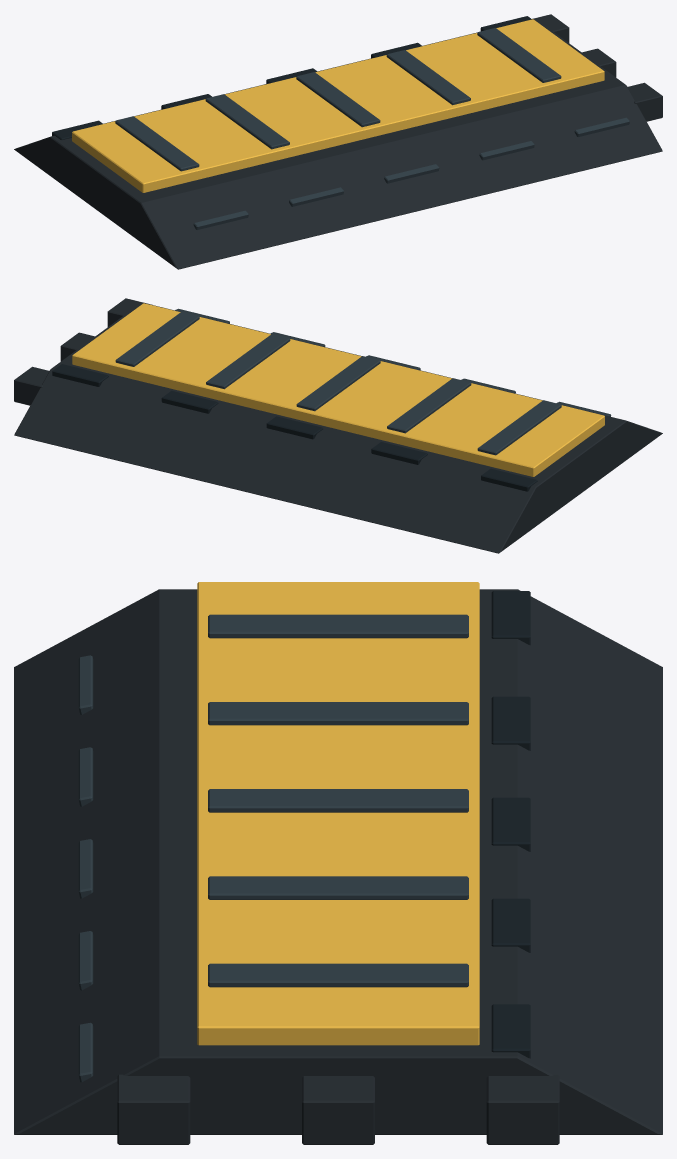
The model's file is b20_five_channel_event_cable_ramp.glb.
The picture shows the model from 3 angles, top to bottom: view 1: azimuth 30°, elevation 25°; view 2: azimuth 150°, elevation 25°; view 3: azimuth 270°, elevation 25°; orthographic projection. The views are drawn at different scales.
Parts seen in each view (by area): view 1: b20_five_channel_event_cable_ramp; view 2: b20_five_channel_event_cable_ramp; view 3: b20_five_channel_event_cable_ramp.
Boxes of the visible parts, left/top/right/bottom form: b20_five_channel_event_cable_ramp: left=14, top=14, right=662, bottom=269; b20_five_channel_event_cable_ramp: left=14, top=298, right=662, bottom=553; b20_five_channel_event_cable_ramp: left=14, top=582, right=662, bottom=1144.
Bounding box in the file's own units: 1.08 × 0.1055 × 0.5973.
